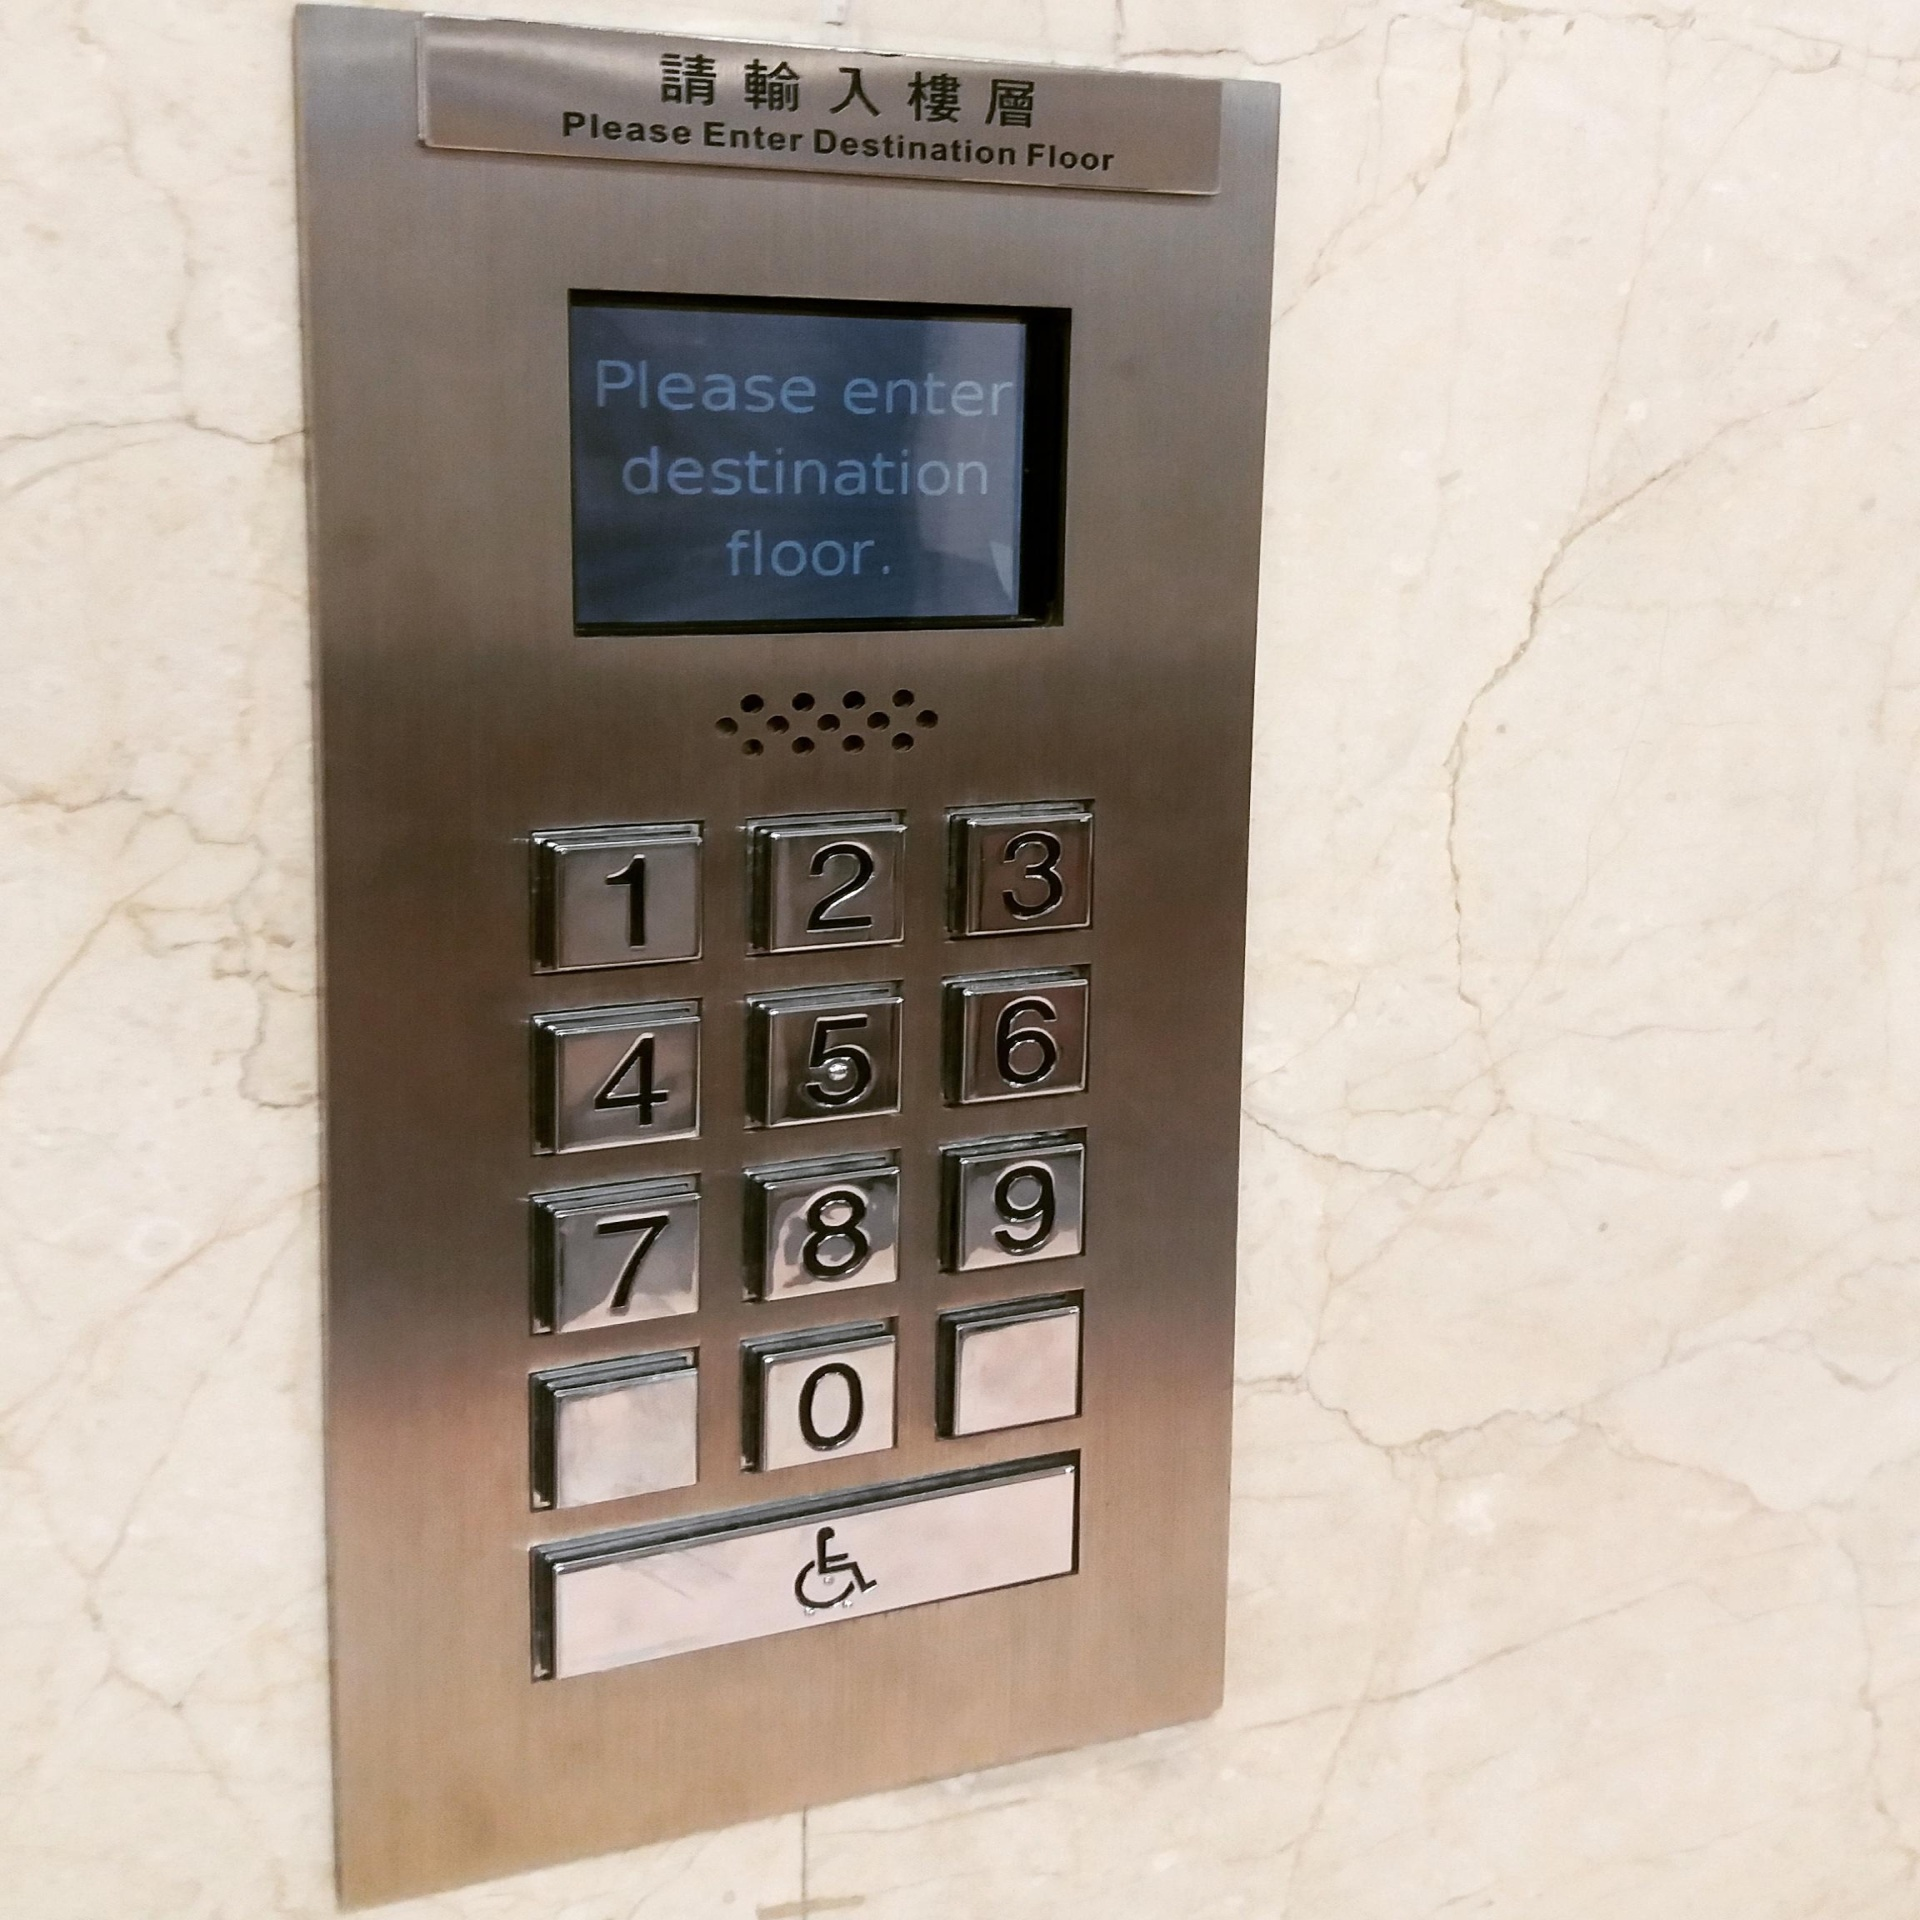0: (738, 1326, 900, 1482)
1: (524, 811, 716, 979)
2: (747, 805, 927, 962)
3: (944, 789, 1108, 946)
4: (535, 1006, 710, 1159)
5: (738, 979, 920, 1134)
6: (935, 962, 1099, 1118)
7: (527, 1175, 705, 1343)
8: (742, 1148, 907, 1305)
9: (934, 1131, 1097, 1289)
CH: (529, 1444, 1090, 1702)
empty: (524, 1343, 705, 1514), (932, 1284, 1087, 1449)
led: (568, 267, 1083, 649)
